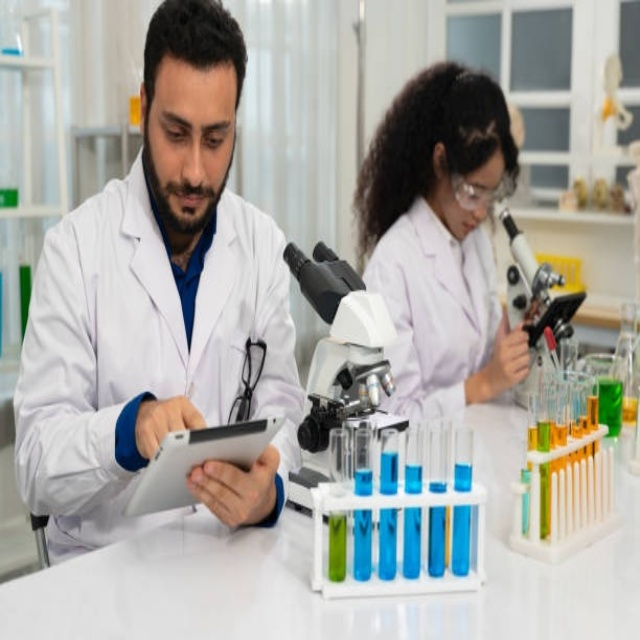Gafas: (451, 165, 512, 211)
Sin_gafas: (153, 97, 233, 156)
Sin_guantes: (185, 439, 282, 529), (133, 393, 209, 463), (481, 305, 533, 396)
Sin_mascara: (165, 173, 213, 225), (453, 210, 482, 244)
